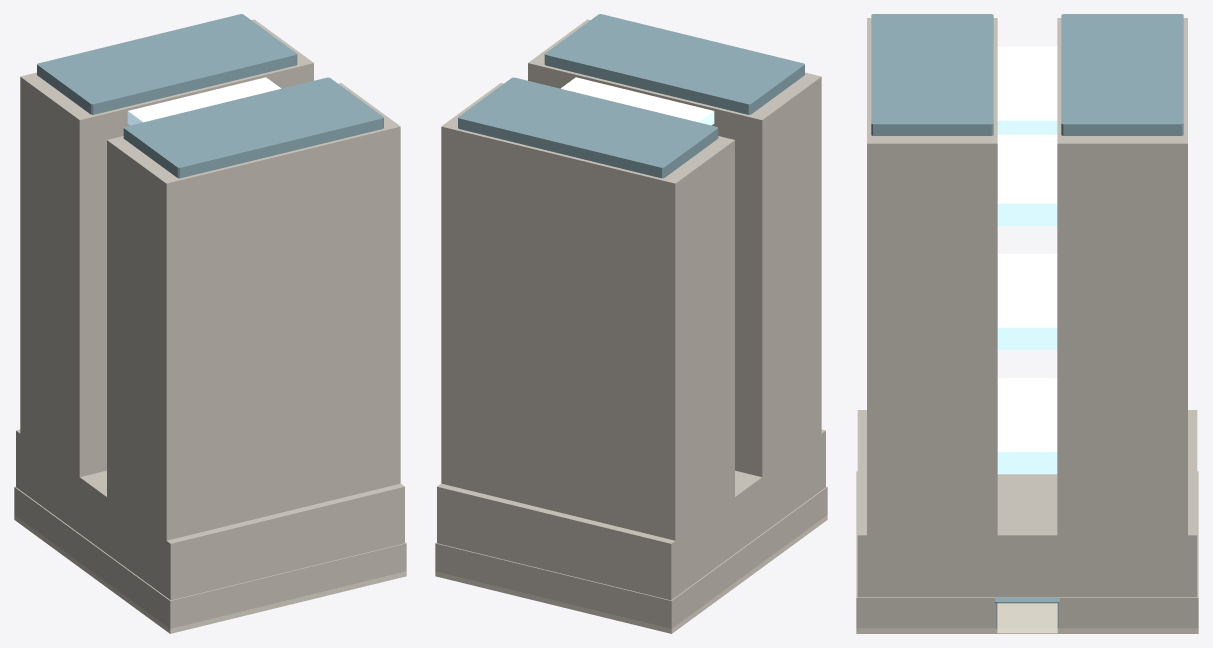
File: Capital_GateAdministration_ShadowProxy.glb
3 renders of one model, left to right at view 1: azimuth 30°, elevation 25°; view 2: azimuth 150°, elevation 25°; view 3: azimuth 270°, elevation 25°, orthographic. The views are drawn at different scales.
Visible parts, largest first — view 1: Capital_GateAdministration_ShadowProxy / Structure, Capital_GateAdministration_ShadowProxy / Roof, Capital_GateAdministration_ShadowProxy / Cross bridges, Capital_GateAdministration_ShadowProxy / Foundation; view 2: Capital_GateAdministration_ShadowProxy / Structure, Capital_GateAdministration_ShadowProxy / Roof, Capital_GateAdministration_ShadowProxy / Cross bridges, Capital_GateAdministration_ShadowProxy / Foundation; view 3: Capital_GateAdministration_ShadowProxy / Structure, Capital_GateAdministration_ShadowProxy / Roof, Capital_GateAdministration_ShadowProxy / Cross bridges, Capital_GateAdministration_ShadowProxy / Foundation, Capital_GateAdministration_ShadowProxy / Entrance modules.
Boxes of the visible parts, <box> form: Capital_GateAdministration_ShadowProxy / Structure: <box>14,19,406,628</box>; Capital_GateAdministration_ShadowProxy / Roof: <box>37,14,383,178</box>; Capital_GateAdministration_ShadowProxy / Cross bridges: <box>127,77,280,125</box>; Capital_GateAdministration_ShadowProxy / Foundation: <box>14,515,406,633</box>; Capital_GateAdministration_ShadowProxy / Structure: <box>435,19,827,628</box>; Capital_GateAdministration_ShadowProxy / Roof: <box>458,14,804,178</box>; Capital_GateAdministration_ShadowProxy / Cross bridges: <box>561,77,714,125</box>; Capital_GateAdministration_ShadowProxy / Foundation: <box>435,515,827,633</box>; Capital_GateAdministration_ShadowProxy / Structure: <box>856,18,1198,628</box>; Capital_GateAdministration_ShadowProxy / Roof: <box>871,14,1183,135</box>; Capital_GateAdministration_ShadowProxy / Cross bridges: <box>997,46,1057,474</box>; Capital_GateAdministration_ShadowProxy / Foundation: <box>856,603,1198,633</box>; Capital_GateAdministration_ShadowProxy / Entrance modules: <box>995,597,1059,633</box>.
Bounding box in the file's own units: 36.2 × 64.65 × 40.
